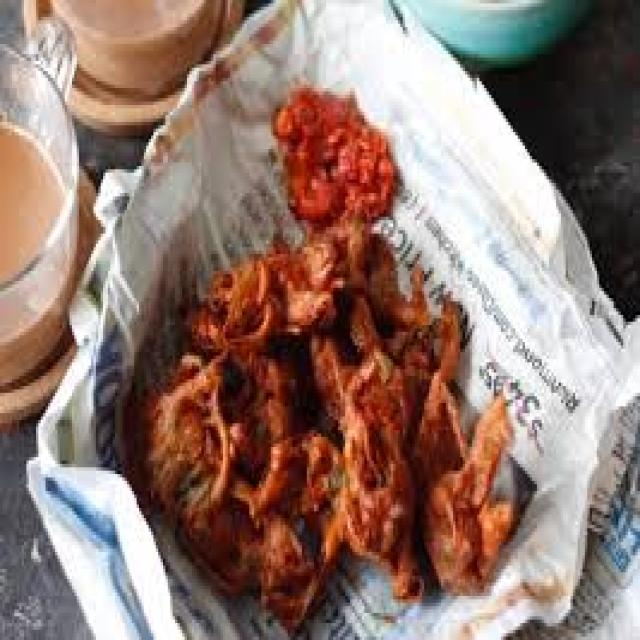BAJI: (140, 90, 519, 630)
